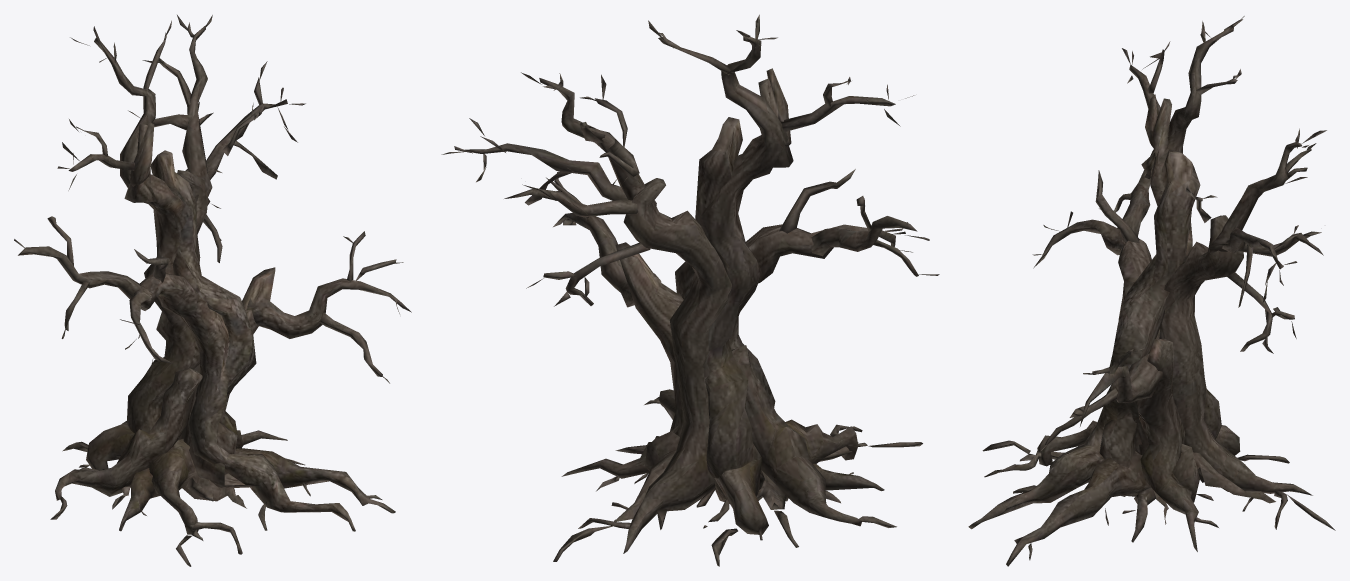
Rendered from h_tree_dead_medium.glb.
3 views of the same model, side by side, from view 1: azimuth 30°, elevation 25°; view 2: azimuth 150°, elevation 25°; view 3: azimuth 270°, elevation 25° (orthographic). The views are drawn at different scales.
Visible parts, largest first — view 1: h_tree_dead_medium; view 2: h_tree_dead_medium; view 3: h_tree_dead_medium.
Part boxes in pixels (x1,y1,x2,y2): h_tree_dead_medium: (14,15,411,566); h_tree_dead_medium: (441,14,939,566); h_tree_dead_medium: (968,16,1335,566).
Bounding box in the file's own units: 3.45 × 4.19 × 3.06.
Materials: 1 (1 with a texture image).
